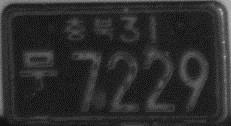1: (146, 14, 160, 45)
2: (142, 48, 179, 115), (106, 49, 141, 115)
3: (118, 14, 141, 44)
7: (68, 48, 103, 115)
9: (178, 48, 211, 110)
무: (19, 48, 57, 91)
충북_O: (63, 15, 116, 43)
